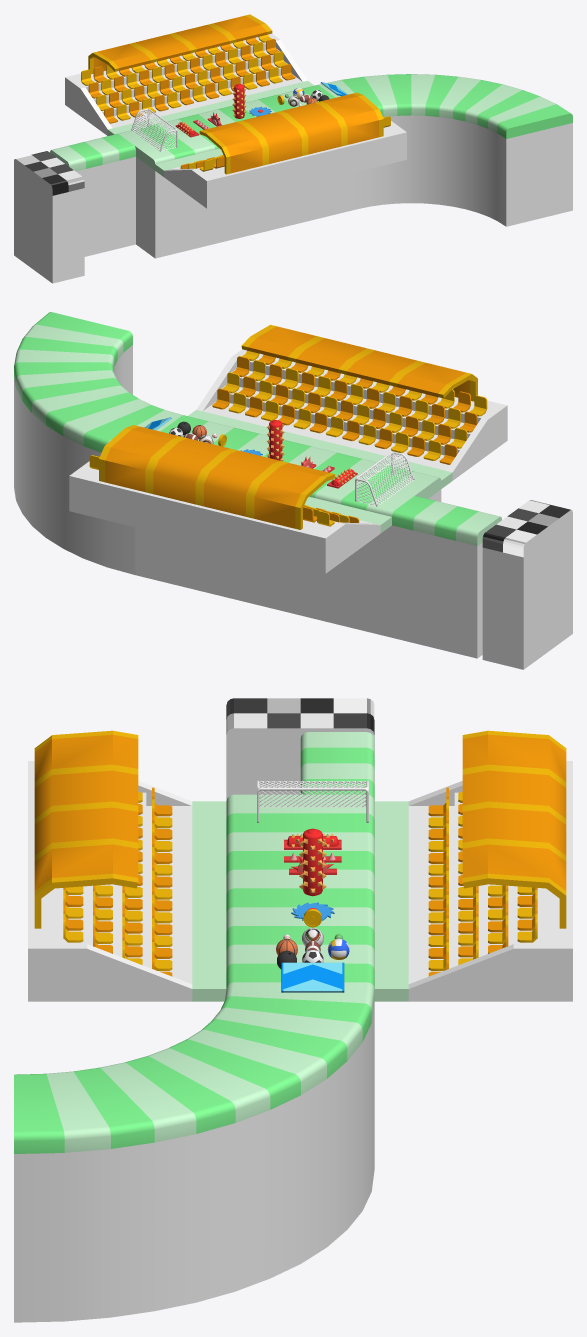
File: models.fbx
3 views of the same model, one above another, from view 1: azimuth 30°, elevation 25°; view 2: azimuth 150°, elevation 25°; view 3: azimuth 270°, elevation 25° (orthographic). The views are drawn at different scales.
Parts seen in each view (by area): view 1: Seat, Round_Bottom, Normal_Bottom, Road_Round, Normal_Bottom_2, Small_Bottom, Road_Normal, Road_Small, Finish, Vert_001, RollingStick; view 2: Seat, Normal_Bottom, Road_Round, Round_Bottom, Small_Bottom, Normal_Bottom_2, Road_Normal, Road_Small, Finish, Vert_001, RollingStick; view 3: Seat, Round_Bottom, Road_Round, Road_Normal, Finish, Road_Small, Normal_Bottom_2, Vert_001, JumpPad, RollingStick.
Boxes of the visible parts, box(x1,y1,x2,y2) form: Seat: box(65, 14, 406, 208); Round_Bottom: box(355, 115, 572, 226); Normal_Bottom: box(136, 157, 355, 258); Road_Round: box(318, 74, 572, 138); Normal_Bottom_2: box(14, 168, 84, 283); Small_Bottom: box(76, 157, 135, 256); Road_Normal: box(118, 85, 335, 170); Road_Small: box(50, 133, 135, 171); Finish: box(14, 151, 84, 195); Vert_001: box(132, 109, 176, 151); RollingStick: box(232, 84, 246, 118); Seat: box(69, 324, 507, 573); Normal_Bottom: box(135, 489, 441, 637); Road_Round: box(14, 312, 182, 452); Round_Bottom: box(14, 345, 135, 574); Small_Bottom: box(392, 525, 482, 658); Normal_Bottom_2: box(482, 521, 572, 669); Road_Normal: box(160, 415, 441, 516); Road_Small: box(392, 496, 501, 546); Finish: box(482, 500, 572, 557); Vert_001: box(356, 453, 413, 506); RollingStick: box(266, 420, 284, 461); Seat: box(28, 730, 572, 1001); Round_Bottom: box(14, 1002, 374, 1322); Road_Round: box(14, 982, 374, 1153); Road_Normal: box(226, 794, 374, 988); Finish: box(226, 698, 374, 747); Road_Small: box(300, 732, 374, 800); Normal_Bottom_2: box(226, 747, 300, 800); Vert_001: box(259, 781, 366, 807); JumpPad: box(281, 962, 344, 992); RollingStick: box(299, 828, 326, 896).
Size of the model in its own units: 1395 by 405 by 755.
Materials: 35 (1 with a texture image).
